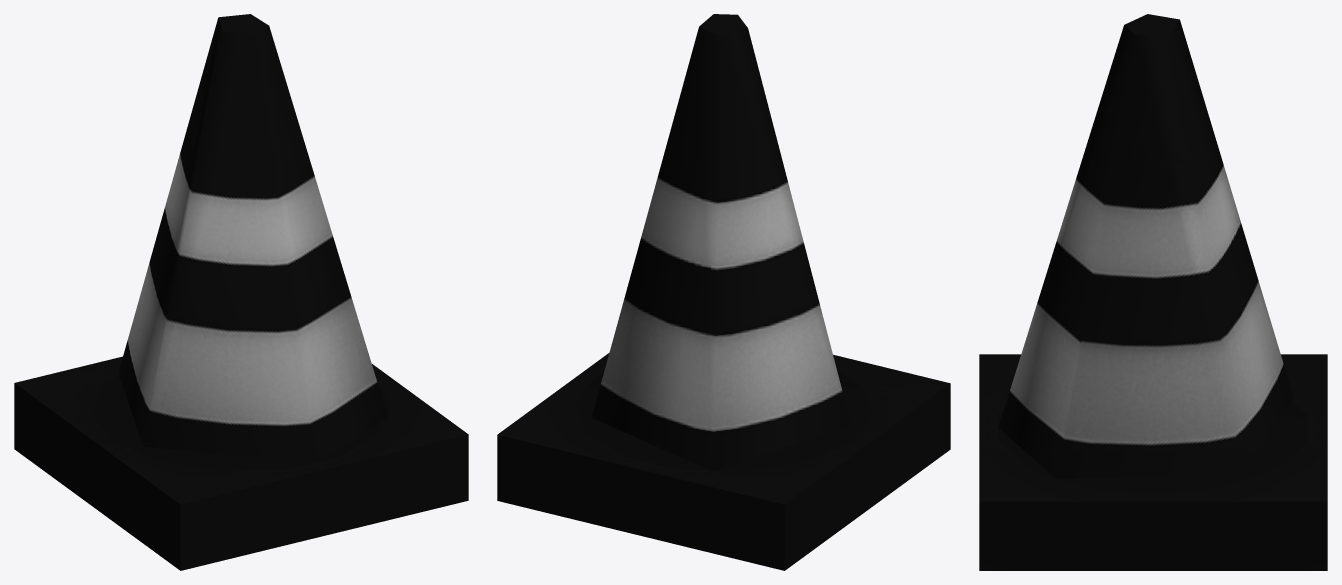
Rendered from obj_decor_cone_lod1.fbx.
The picture shows the model from 3 angles, left to right: view 1: azimuth 30°, elevation 25°; view 2: azimuth 150°, elevation 25°; view 3: azimuth 270°, elevation 25°; orthographic projection. The views are drawn at different scales.
Visible parts, largest first — view 1: polySurface2; view 2: polySurface2; view 3: polySurface2.
Part boxes in pixels (x1,y1,x2,y2): polySurface2: (14, 14, 468, 570); polySurface2: (497, 14, 950, 570); polySurface2: (979, 14, 1327, 570).
Size of the model in its own units: 1.99 by 2.98 by 1.99.
Materials: 1 (1 with a texture image).
